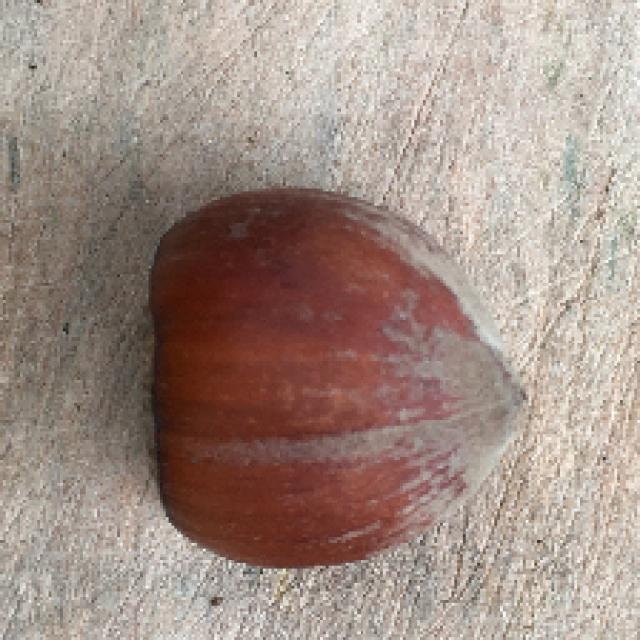QualityHazelnut: (146, 187, 530, 566)
